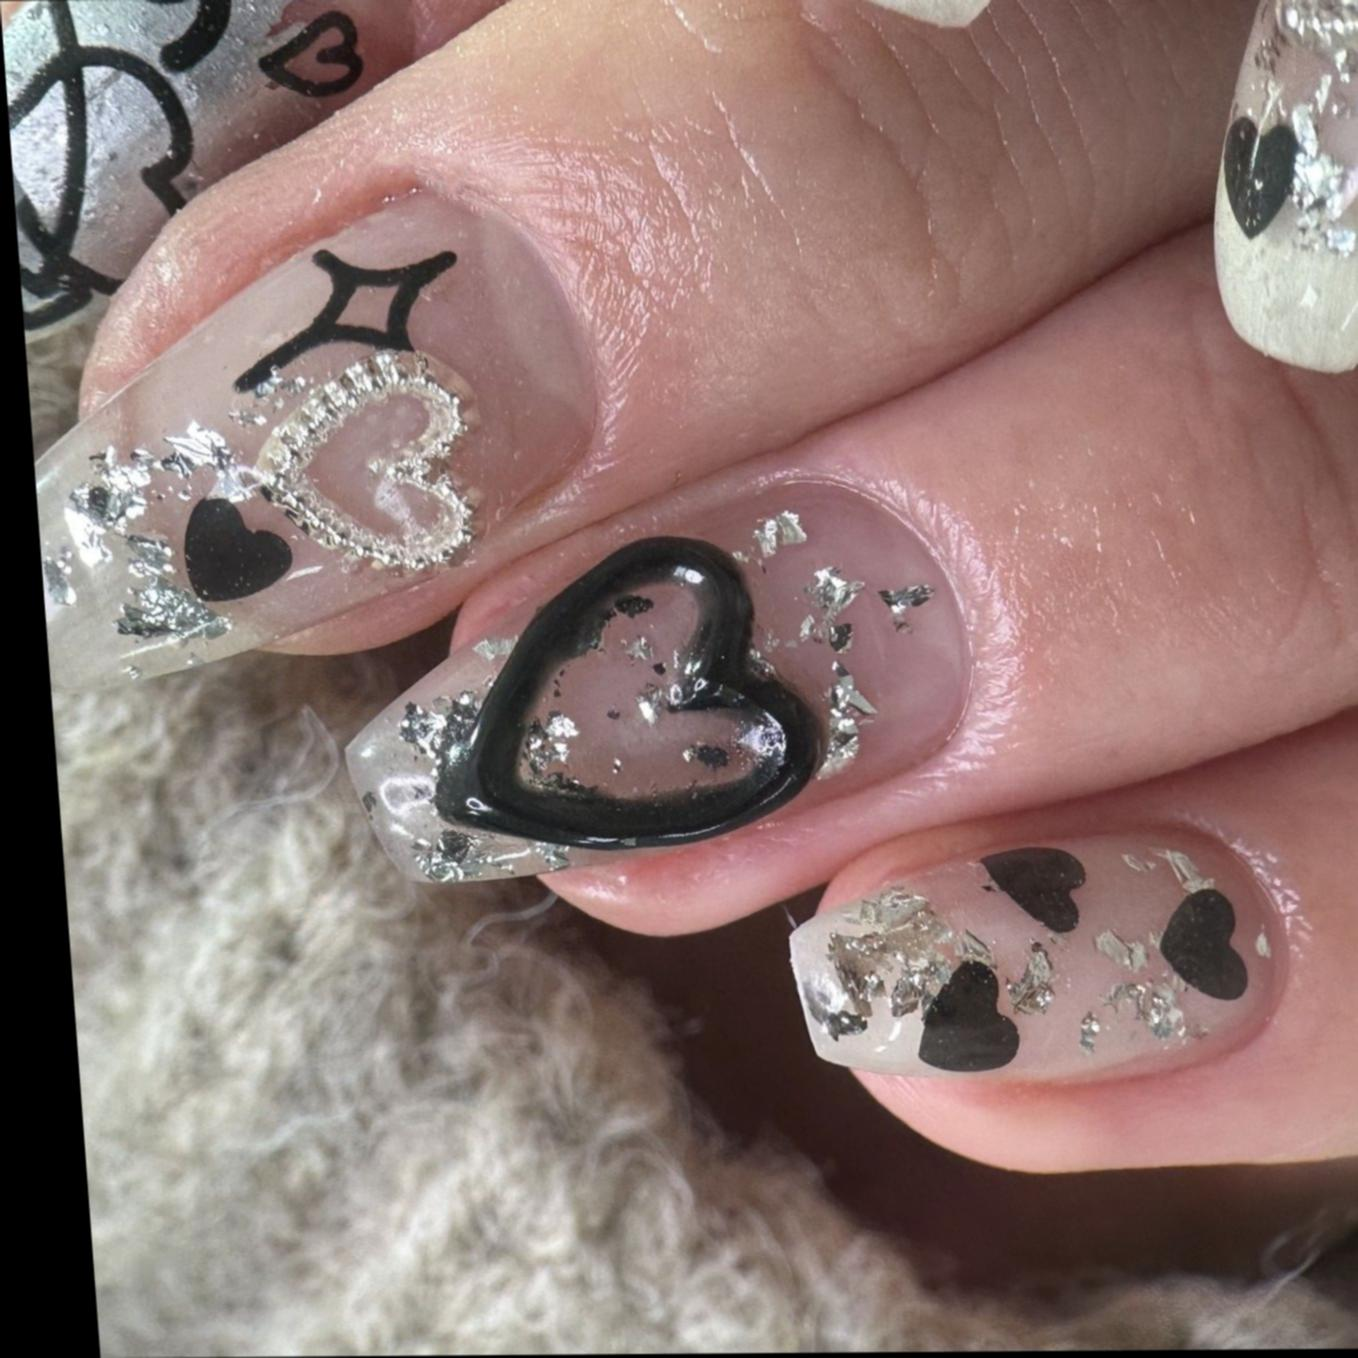nail: (326, 532, 831, 888), (776, 821, 1300, 1089), (1190, 0, 1358, 376)
